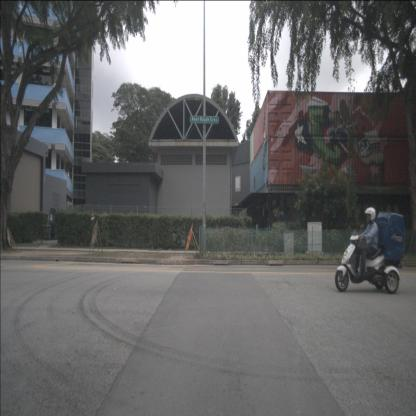vehicle-motorcycle: (335, 207, 405, 294)
